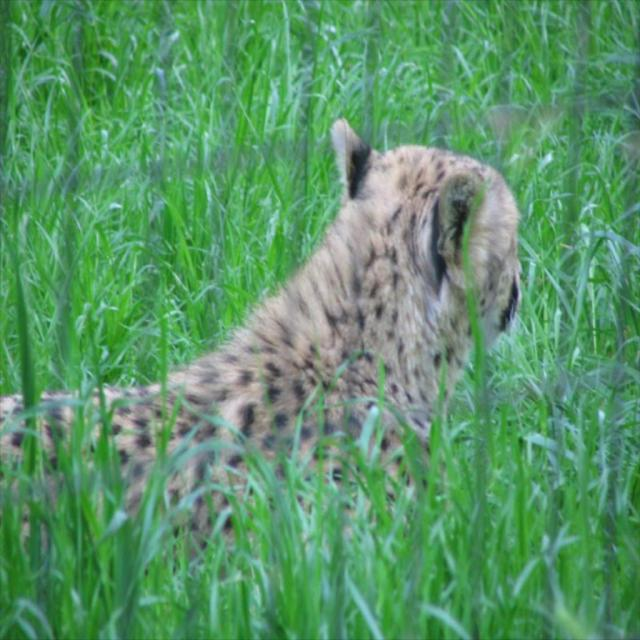Cheetah: (10, 113, 541, 590)
